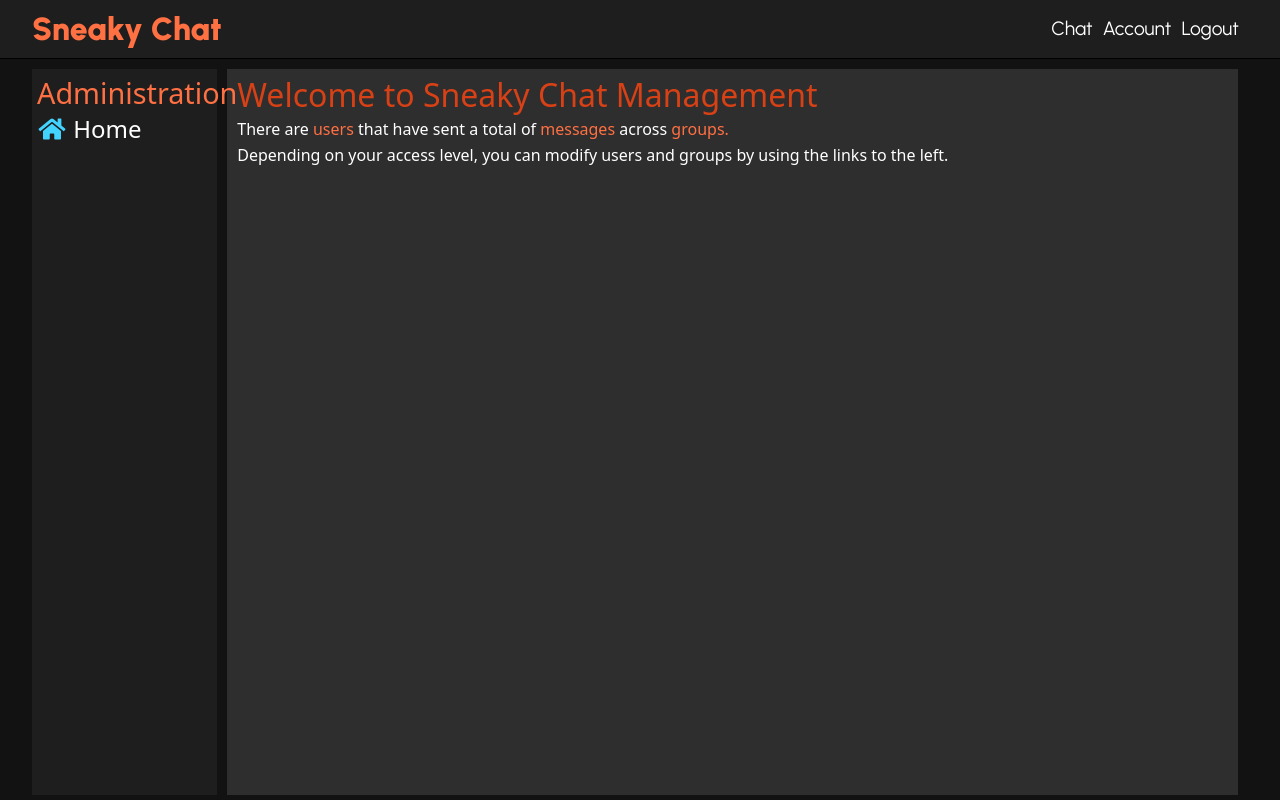
Scenario: Test Sneaky Chat › Should log out
Click the link "Logout": (1210, 29) [1181,17,1238,40]
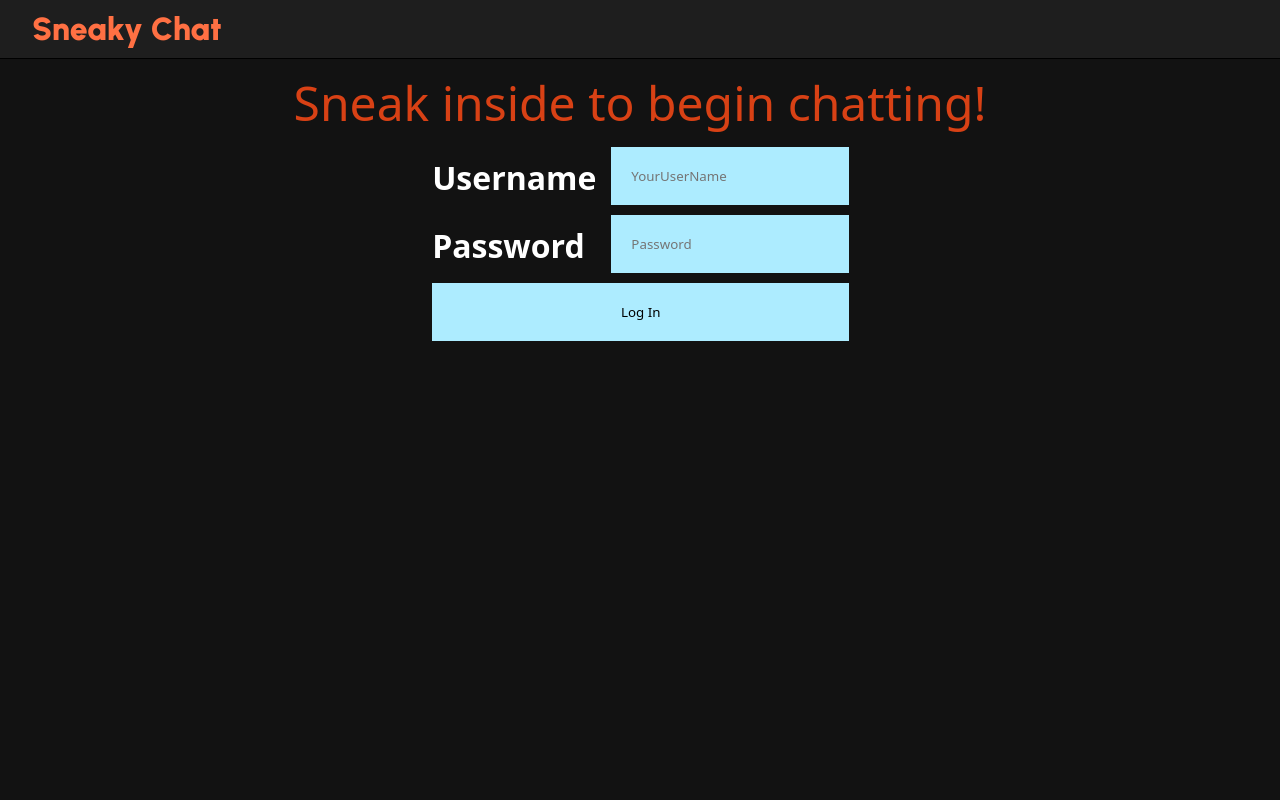
Expected: the heading "Sneak inside to begin chatting!" is shown, [294,79,986,127]
